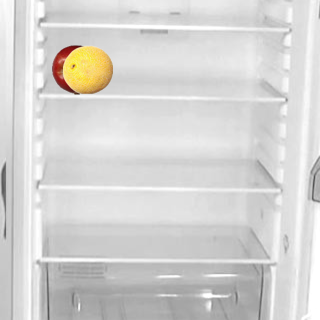Apple Braeburn: (51, 44, 101, 94)
Cantaloupe 1: (62, 44, 112, 94)
